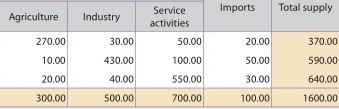column: (276, 1, 338, 109), (8, 1, 67, 109), (82, 1, 135, 109), (150, 1, 203, 109), (220, 1, 271, 109)
row: (1, 2, 339, 29), (1, 55, 339, 66), (1, 36, 339, 46), (1, 74, 339, 84), (1, 93, 339, 103)
